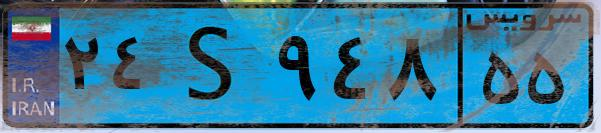2: (57, 26, 110, 100)
4: (330, 28, 385, 110), (110, 28, 158, 98)
5: (475, 38, 525, 113), (525, 38, 570, 115)
8: (385, 28, 445, 110)
9: (270, 28, 330, 110)
S: (158, 12, 270, 120)
